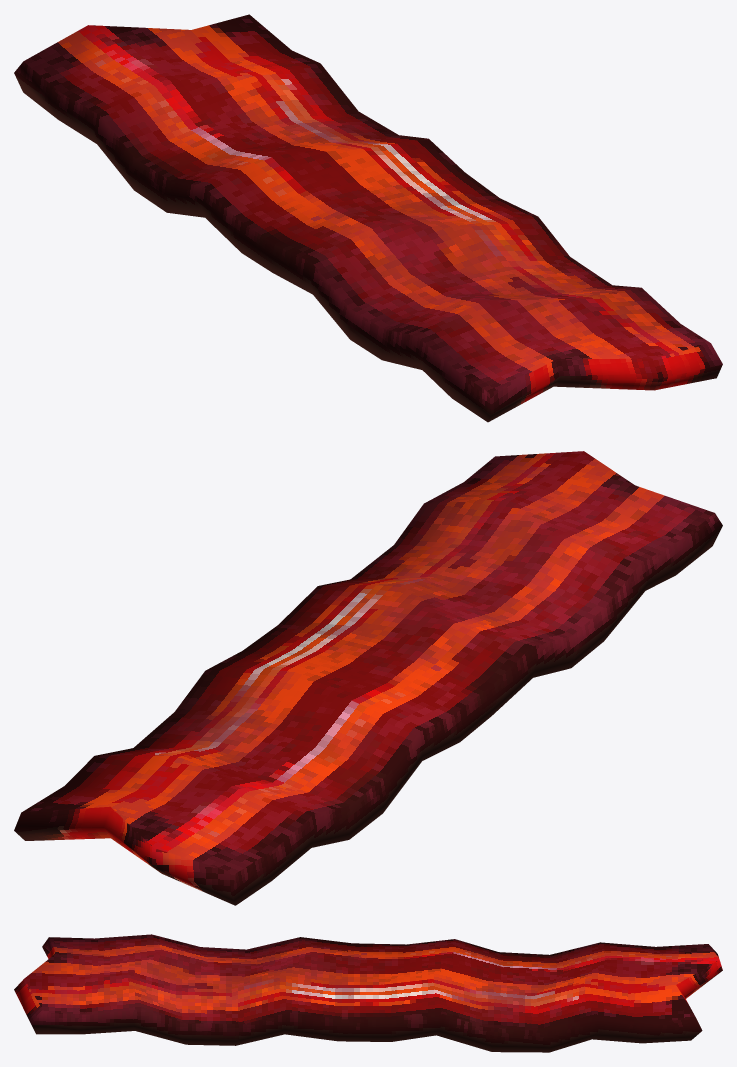
The model's file is bacon.glb.
3 renders of one model, top to bottom at view 1: azimuth 30°, elevation 25°; view 2: azimuth 150°, elevation 25°; view 3: azimuth 270°, elevation 25°, orthographic. The views are drawn at different scales.
Visible parts, largest first — view 1: Cube.001; view 2: Cube.001; view 3: Cube.001.
Boxes of the visible parts, x1,y1,x2,y2 form: Cube.001: [14, 14, 722, 422]; Cube.001: [14, 451, 722, 905]; Cube.001: [14, 934, 722, 1052].
Size of what is drawn, in the model's own units: 0.5556 by 0.1784 by 2.16.
Materials: 1 (1 with a texture image).
